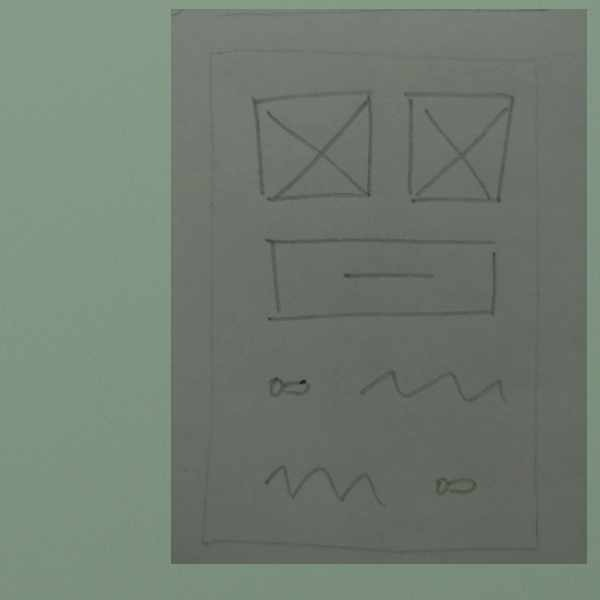button: (255, 229, 508, 325)
image: (241, 83, 380, 203), (398, 83, 517, 208)
switch: (423, 467, 487, 505), (262, 366, 319, 405)
text: (351, 354, 519, 412), (257, 457, 393, 515)
